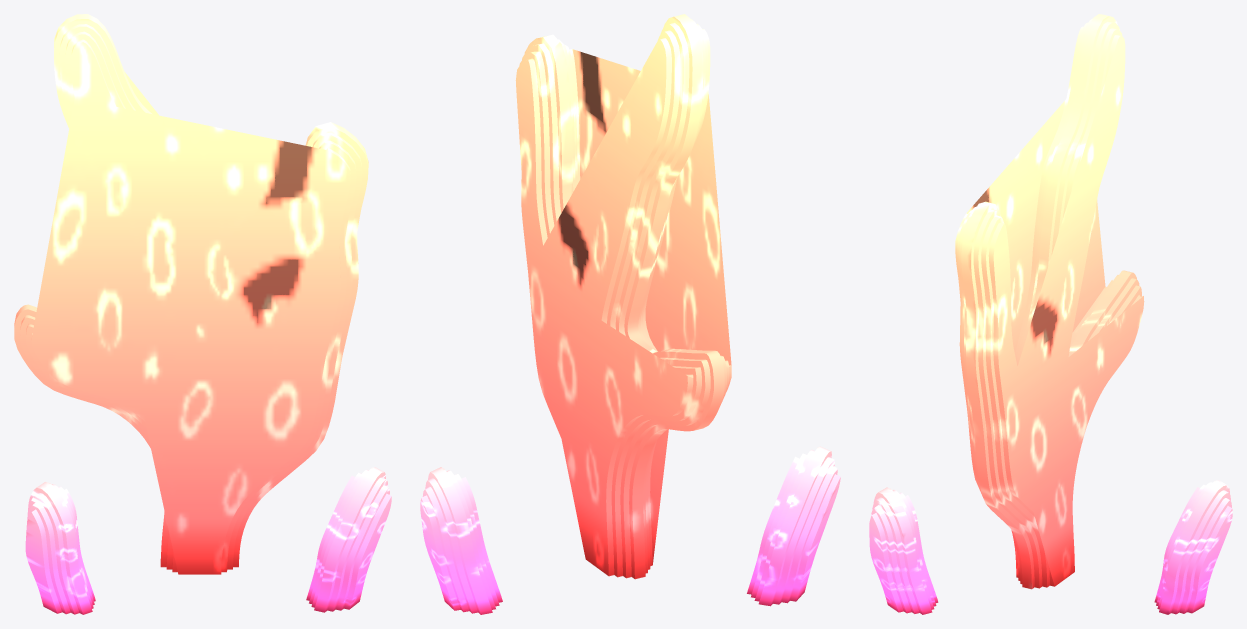
The model's file is teen_001.fbx.
3 renders of one model, left to right at view 1: azimuth 30°, elevation 25°; view 2: azimuth 150°, elevation 25°; view 3: azimuth 270°, elevation 25°, orthographic. The views are drawn at different scales.
Parts seen in each view (by area): view 1: teen.001; view 2: teen.001; view 3: teen.001.
Part boxes in pixels (x1,y1,x2,y2): teen.001: (14, 14, 391, 614); teen.001: (420, 14, 840, 614); teen.001: (869, 14, 1232, 614).
Bounding box in the file's own units: 15737 × 26102 × 16620.
